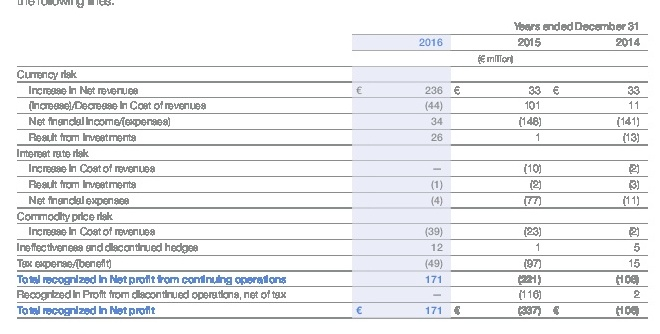table: (0, 0, 660, 334)
